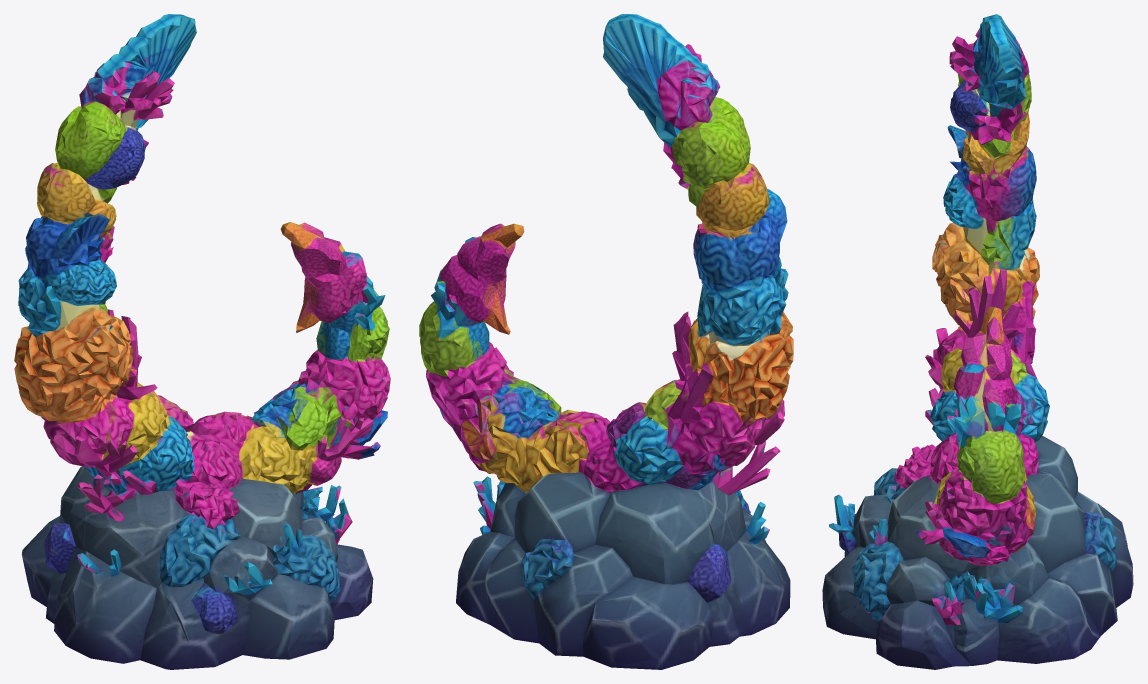
Rendered from phishing-reef.glb.
3 views of the same model, side by side, from view 1: azimuth 30°, elevation 25°; view 2: azimuth 150°, elevation 25°; view 3: azimuth 270°, elevation 25° (orthographic). The views are drawn at different scales.
Bounding box in the file's own units: 1.23 × 1.9 × 0.9353.
1 material, 1 textured.
